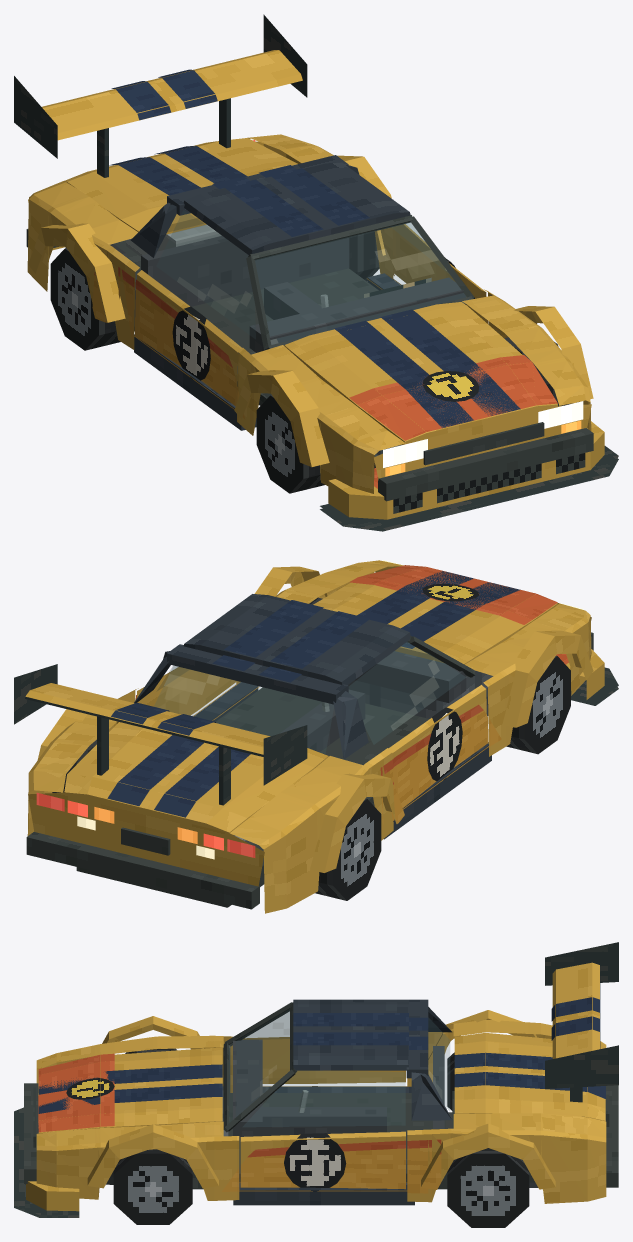
The model's file is torrel-1988-rs-mid.glb.
3 views of the same model, one above another, from view 1: azimuth 30°, elevation 25°; view 2: azimuth 150°, elevation 25°; view 3: azimuth 270°, elevation 25° (orthographic). The views are drawn at different scales.
Parts seen in each view (by area): view 1: body, rs_wing, rs_front, hood, door_r, roof_panel, livery_b_hood__00, livery_a_hood__00, trunk, livery_a_roof_panel__00, wheel_rr, rs_arch_fr (+12 smaller); view 2: body, trunk, rs_wing, roof_panel, door_r, hood, livery_a_trunk__00, livery_a_roof_panel__00, livery_b_hood__00, livery_a_hood__00, wheel_rr, rs_arch_fr (+10 smaller); view 3: body, door_l, rs_wing, trunk, hood, wheel_rl, roof_panel, wheel_fl, livery_b_hood__00, livery_b_door_l__00, livery_a_hood__00, rs_arch_fl (+13 smaller).
Boxes of the visible parts, left/top/right/bottom form: body: left=26, top=134, right=593, bottom=501; rs_wing: left=14, top=14, right=307, bottom=177; rs_front: left=320, top=421, right=618, bottom=531; hood: left=284, top=302, right=557, bottom=444; door_r: left=137, top=210, right=255, bottom=404; roof_panel: left=183, top=162, right=410, bottom=254; livery_b_hood__00: left=349, top=355, right=557, bottom=440; livery_a_hood__00: left=334, top=309, right=520, bottom=428; trunk: left=64, top=138, right=297, bottom=234; livery_a_roof_panel__00: left=224, top=168, right=369, bottom=236; wheel_rr: left=50, top=244, right=136, bottom=350; rs_arch_fr: left=234, top=370, right=329, bottom=466; body: left=26, top=560, right=593, bottom=913; trunk: left=64, top=722, right=328, bottom=834; rs_wing: left=14, top=664, right=307, bottom=805; roof_panel: left=183, top=594, right=410, bottom=684; door_r: left=349, top=642, right=486, bottom=773; hood: left=313, top=582, right=557, bottom=664; livery_a_trunk__00: left=107, top=735, right=250, bottom=817; livery_a_roof_panel__00: left=224, top=600, right=369, bottom=668; livery_b_hood__00: left=349, top=565, right=557, bottom=624; livery_a_hood__00: left=357, top=571, right=520, bottom=648; wheel_rr: left=315, top=798, right=381, bottom=900; rs_arch_fr: left=502, top=630, right=593, bottom=727; body: left=24, top=999, right=618, bottom=1205; door_l: left=240, top=1071, right=405, bottom=1165; rs_wing: left=545, top=942, right=618, bottom=1102; trunk: left=454, top=1033, right=605, bottom=1121; hood: left=38, top=1048, right=222, bottom=1133; wheel_rl: left=447, top=1148, right=529, bottom=1227; roof_panel: left=293, top=999, right=408, bottom=1070; wheel_fl: left=113, top=1149, right=192, bottom=1224; livery_b_hood__00: left=38, top=1053, right=114, bottom=1132; livery_b_door_l__00: left=240, top=1140, right=405, bottom=1189; livery_a_hood__00: left=38, top=1064, right=222, bottom=1113; rs_arch_fl: left=87, top=1124, right=218, bottom=1188.
Size of the model in its own units: 2.08 by 1.37 by 4.26.
6 materials, 6 textured.
